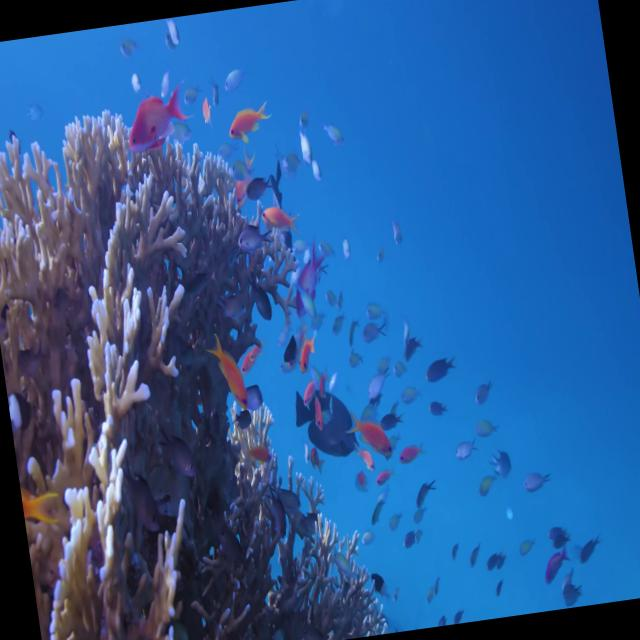fish: (122, 80, 194, 152), (294, 386, 359, 462), (210, 332, 250, 413), (286, 245, 326, 314), (350, 412, 395, 464), (275, 318, 315, 376), (224, 102, 276, 141), (292, 329, 324, 378), (259, 203, 302, 237), (234, 220, 272, 256), (423, 352, 460, 384)
